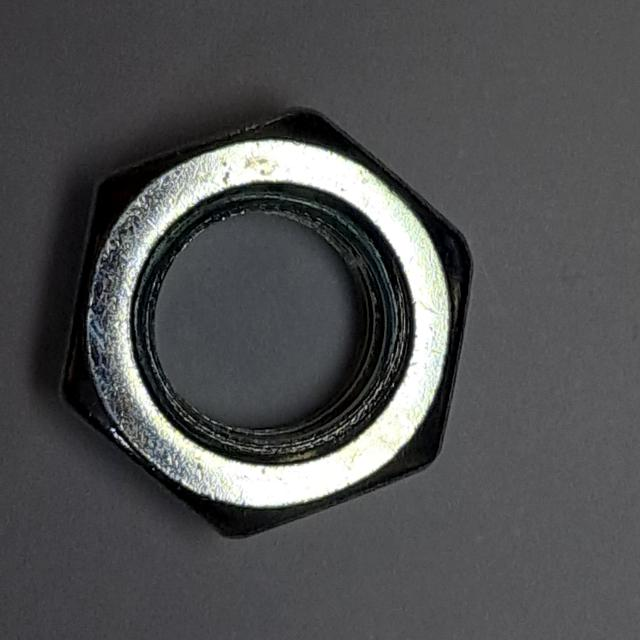Excellent: (42, 91, 485, 556)
